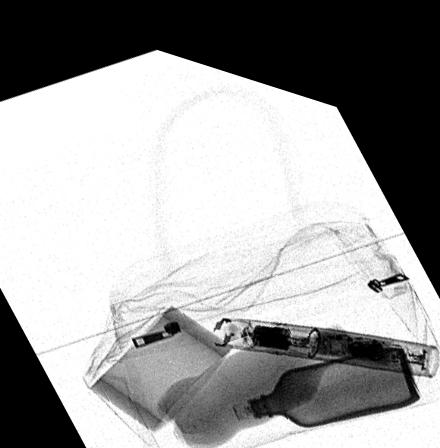Baton: (208, 301, 439, 350)
